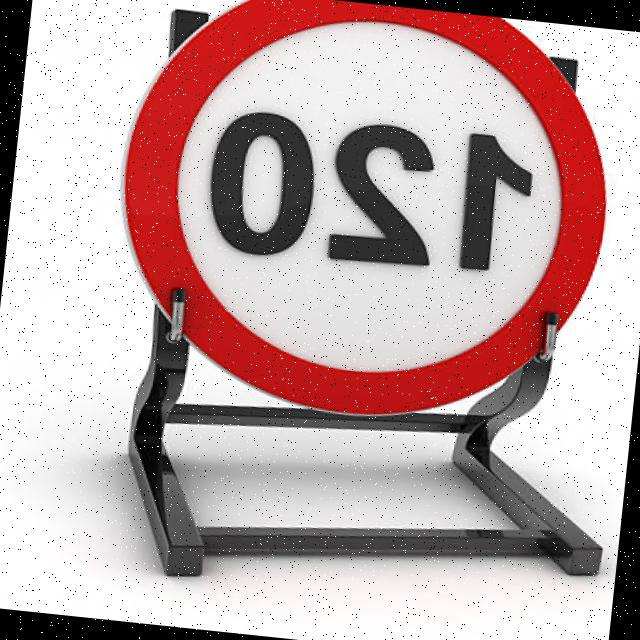speed_limit_120: (89, 0, 628, 441)
